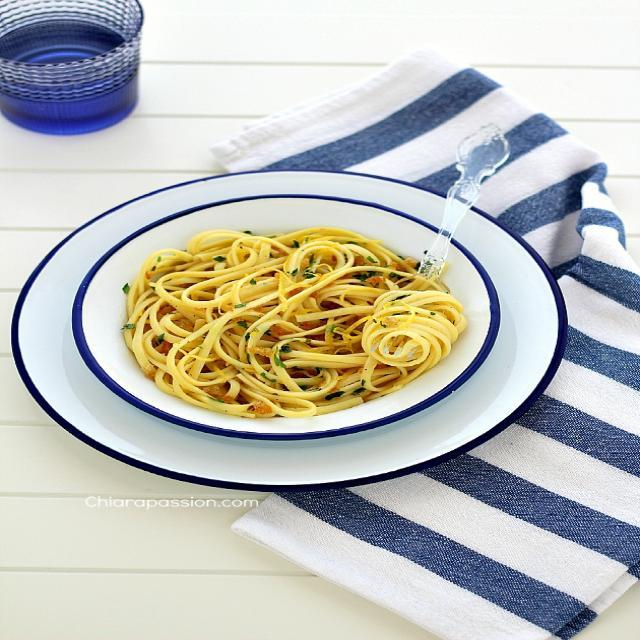Oil pasta: (76, 196, 525, 446)
